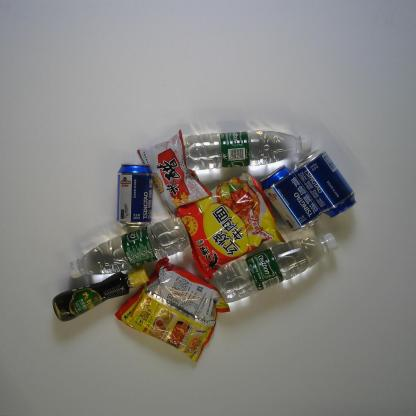Alcohol: (293, 148, 357, 219), (259, 164, 323, 233), (114, 162, 154, 228)
Drink: (214, 231, 340, 304), (67, 214, 191, 280), (183, 128, 313, 172)
Instant Noodles: (174, 170, 286, 282), (113, 257, 230, 363)
Seasoner: (137, 128, 213, 218), (52, 266, 150, 322)
